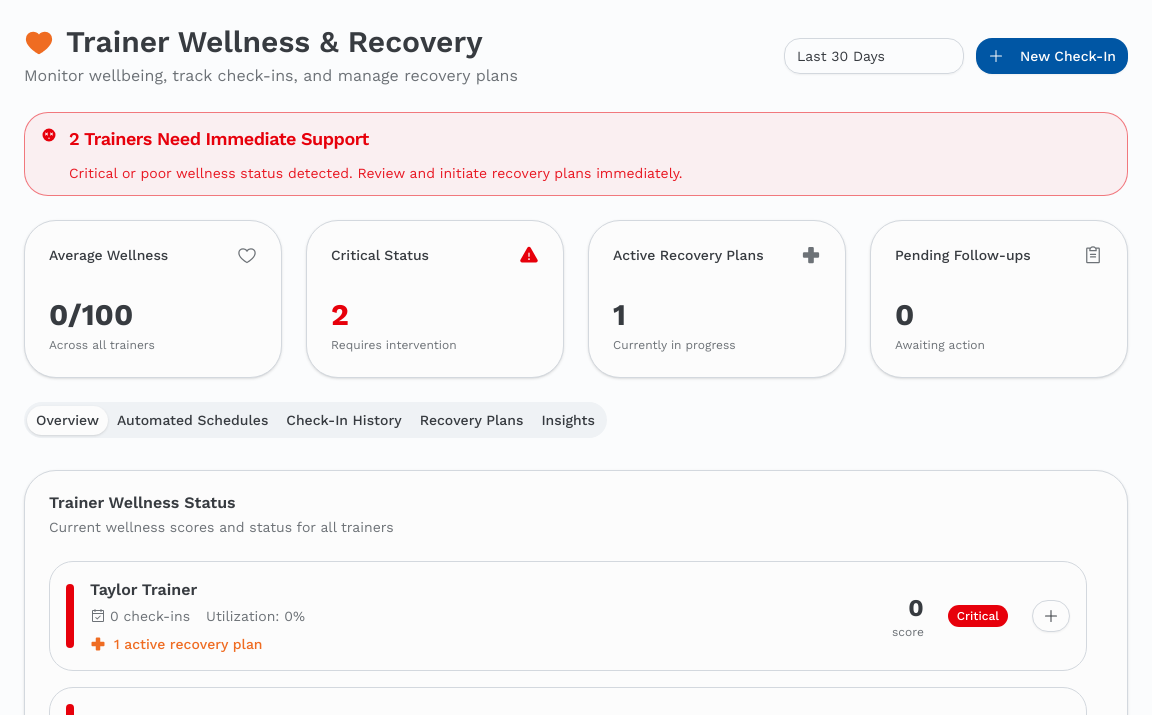
Scenario: TrainerWellness › renders check-in history empty state when there are no check-ins
Click the tab "Check-In History": (344, 420) 277,406 -> 411,434
(page scrolled)
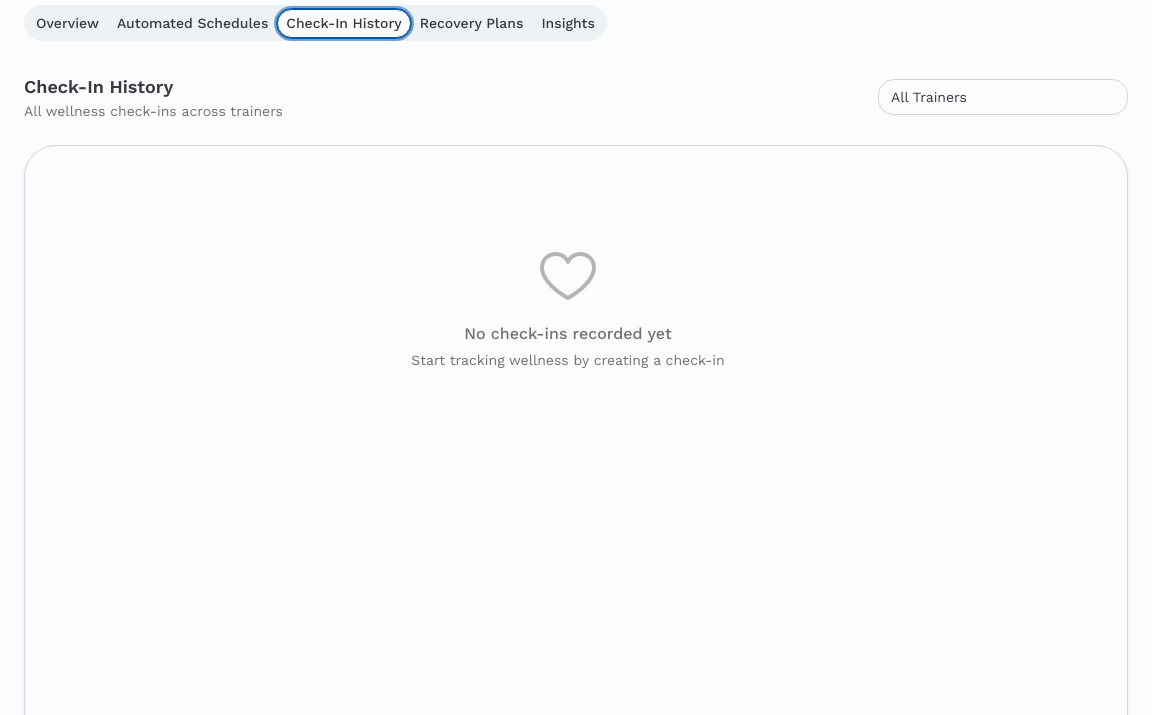
Expected: the text "No check-ins recorded yet" is shown, 464,324 -> 672,343
Expected: the text "Start tracking wellness by creating a check-in" is shown, 411,352 -> 725,368
